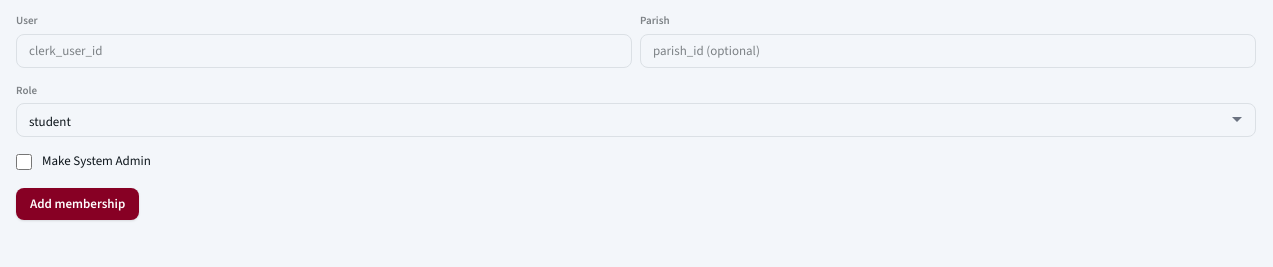
AdminMembershipForm › shows server error message on non-ok response
Click the button "Add membership": (78, 204) [16, 188, 139, 220]
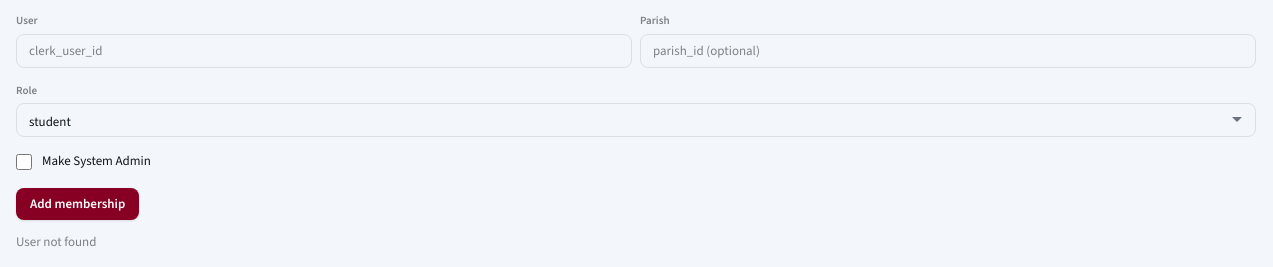
Expected: the text "User not found" is shown, [16, 233, 96, 250]
